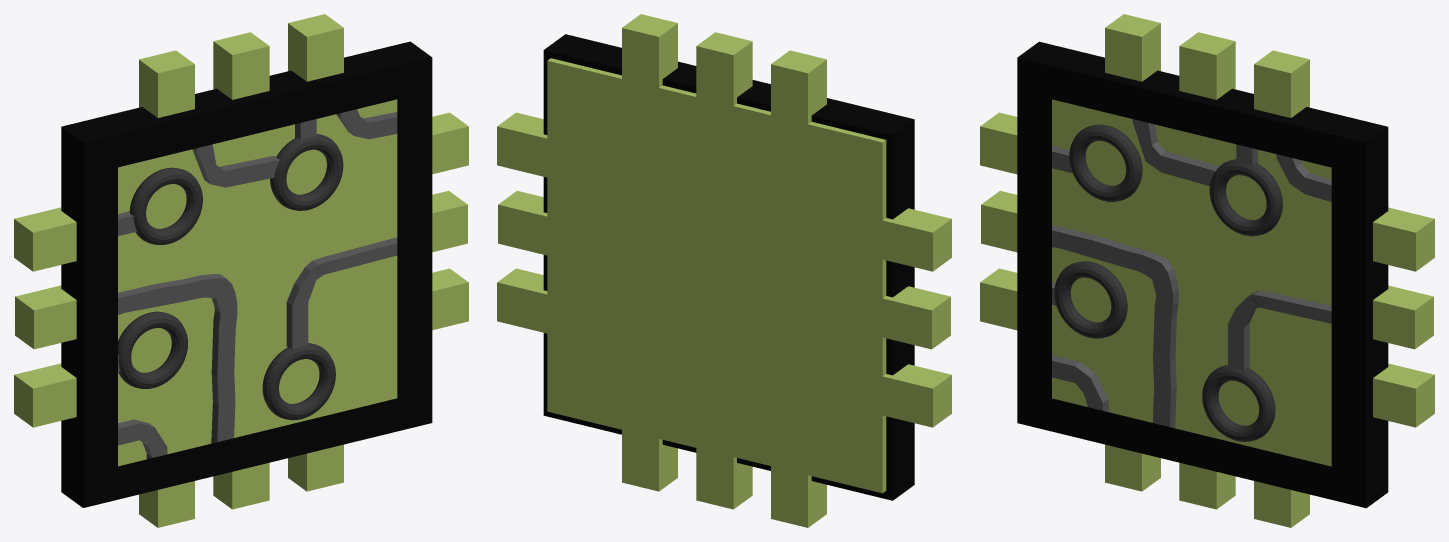
Rendered from chip1.gltf.
3 views of the same model, side by side, from view 1: azimuth 30°, elevation 25°; view 2: azimuth 150°, elevation 25°; view 3: azimuth 330°, elevation 25° (orthographic).
Parts seen in each view (by area): view 1: Cube, Cube2, Cube1, Torus; view 2: Cube, Cube2; view 3: Cube, Cube2, Cube1, Torus.
Boxes of the visible parts, <box> form: Cube: <box>14,14,468,527</box>; Cube2: <box>61,41,432,507</box>; Cube1: <box>118,109,397,459</box>; Torus: <box>118,134,343,420</box>; Cube: <box>497,14,951,527</box>; Cube2: <box>543,34,914,500</box>; Cube: <box>980,14,1434,527</box>; Cube2: <box>1017,41,1388,508</box>; Cube1: <box>1052,119,1331,428</box>; Torus: <box>1054,124,1282,441</box>.
Size of the model in its own units: 2.6 by 2.59 by 0.2773.
